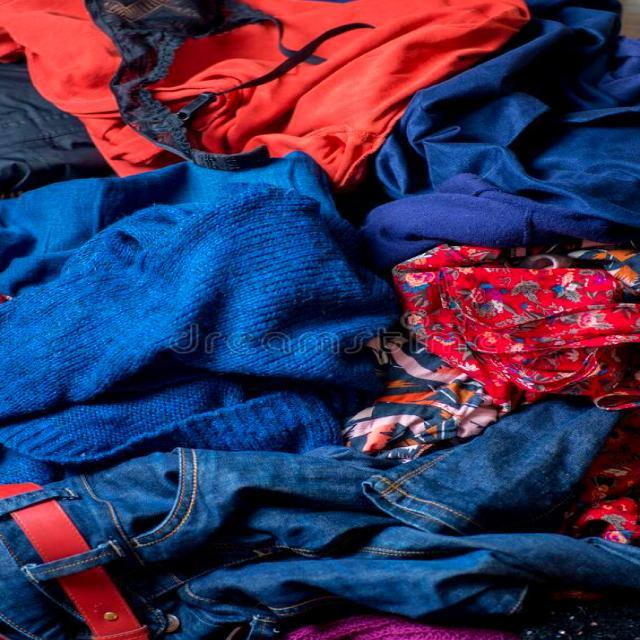clothes: (18, 37, 623, 640)
